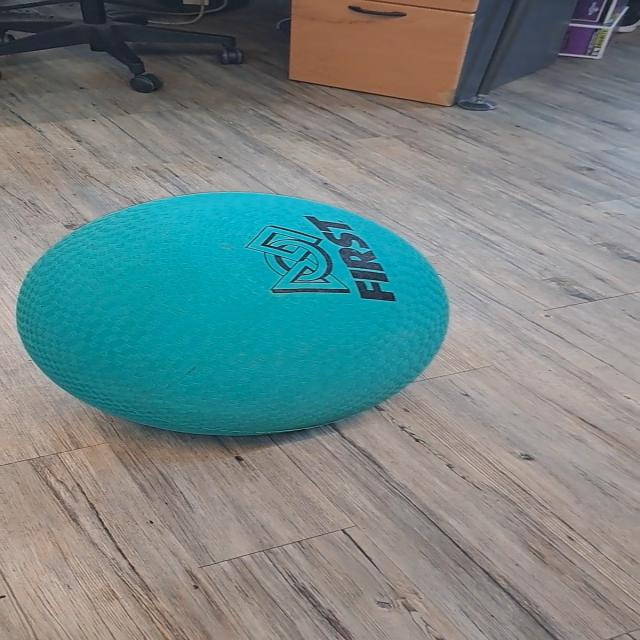ALGAE: (14, 189, 451, 437)
